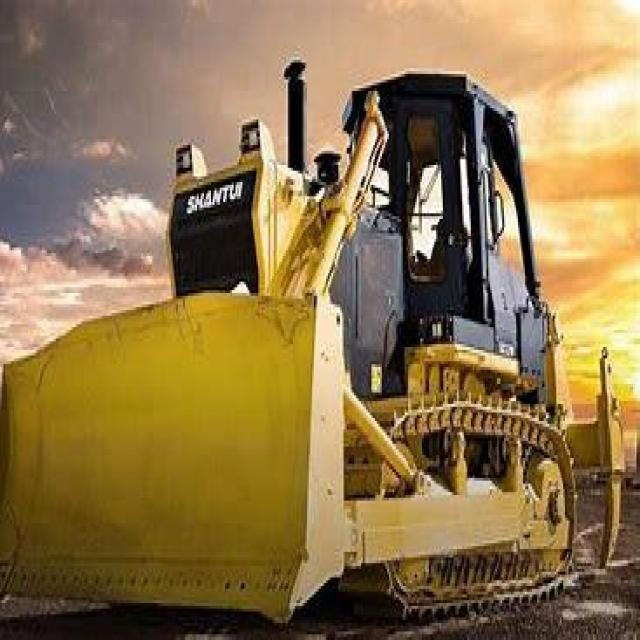Bulldozer: (2, 37, 621, 617)
